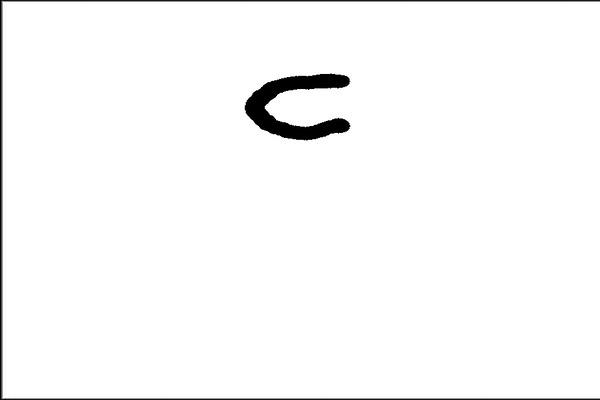C: (237, 67, 354, 148)
